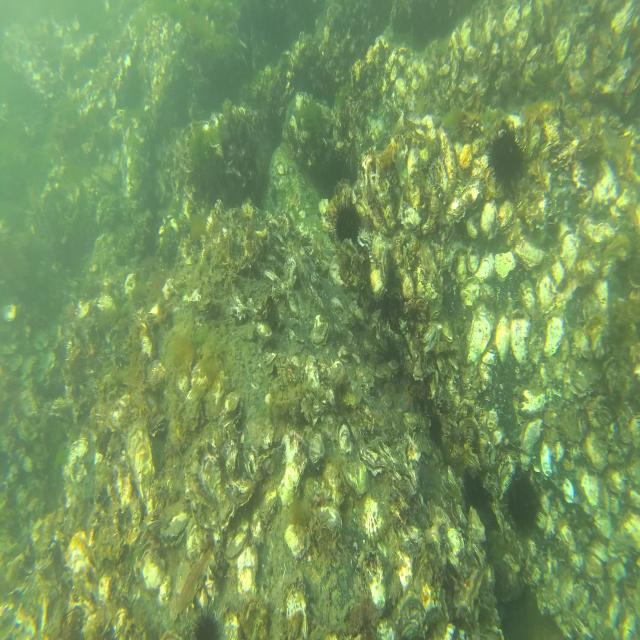echinus: (503, 468, 542, 535), (484, 126, 526, 188), (331, 198, 363, 245), (191, 611, 220, 640)
starfish: (396, 390, 419, 416)
